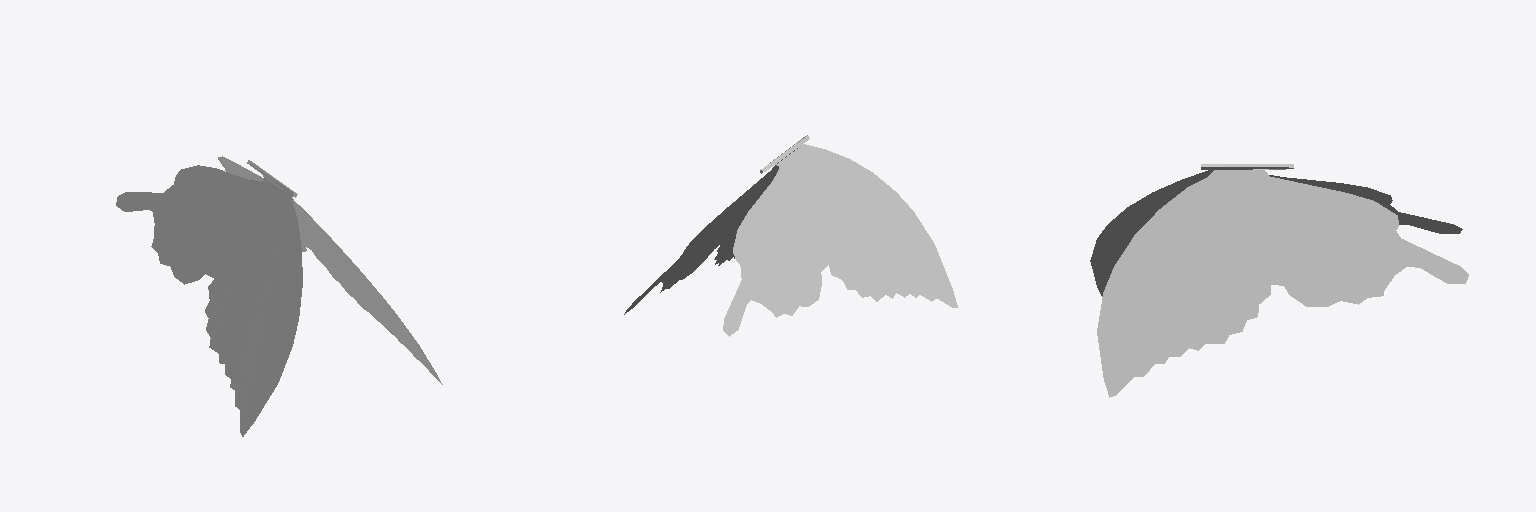
File: mob_16.obj
3 renders of one model, left to right at view 1: azimuth 30°, elevation 25°; view 2: azimuth 150°, elevation 25°; view 3: azimuth 270°, elevation 25°, orthographic.
Parts seen in each view (by area): view 1: Cube; view 2: Cube; view 3: Cube.
Part boxes in pixels (x1,y1,x2,y2): Cube: (116,156,442,436); Cube: (624,135,957,336); Cube: (1090,164,1468,397).
Size of the model in its own units: 1.21 by 1.05 by 1.96.